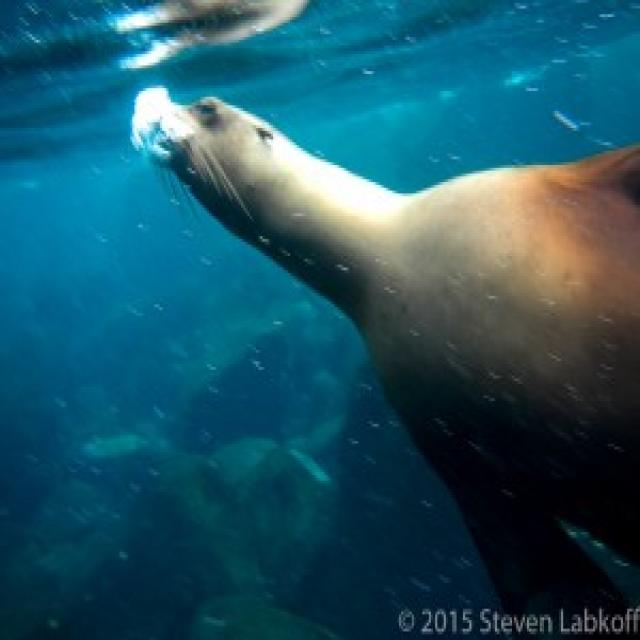Seal: (141, 62, 640, 578)
